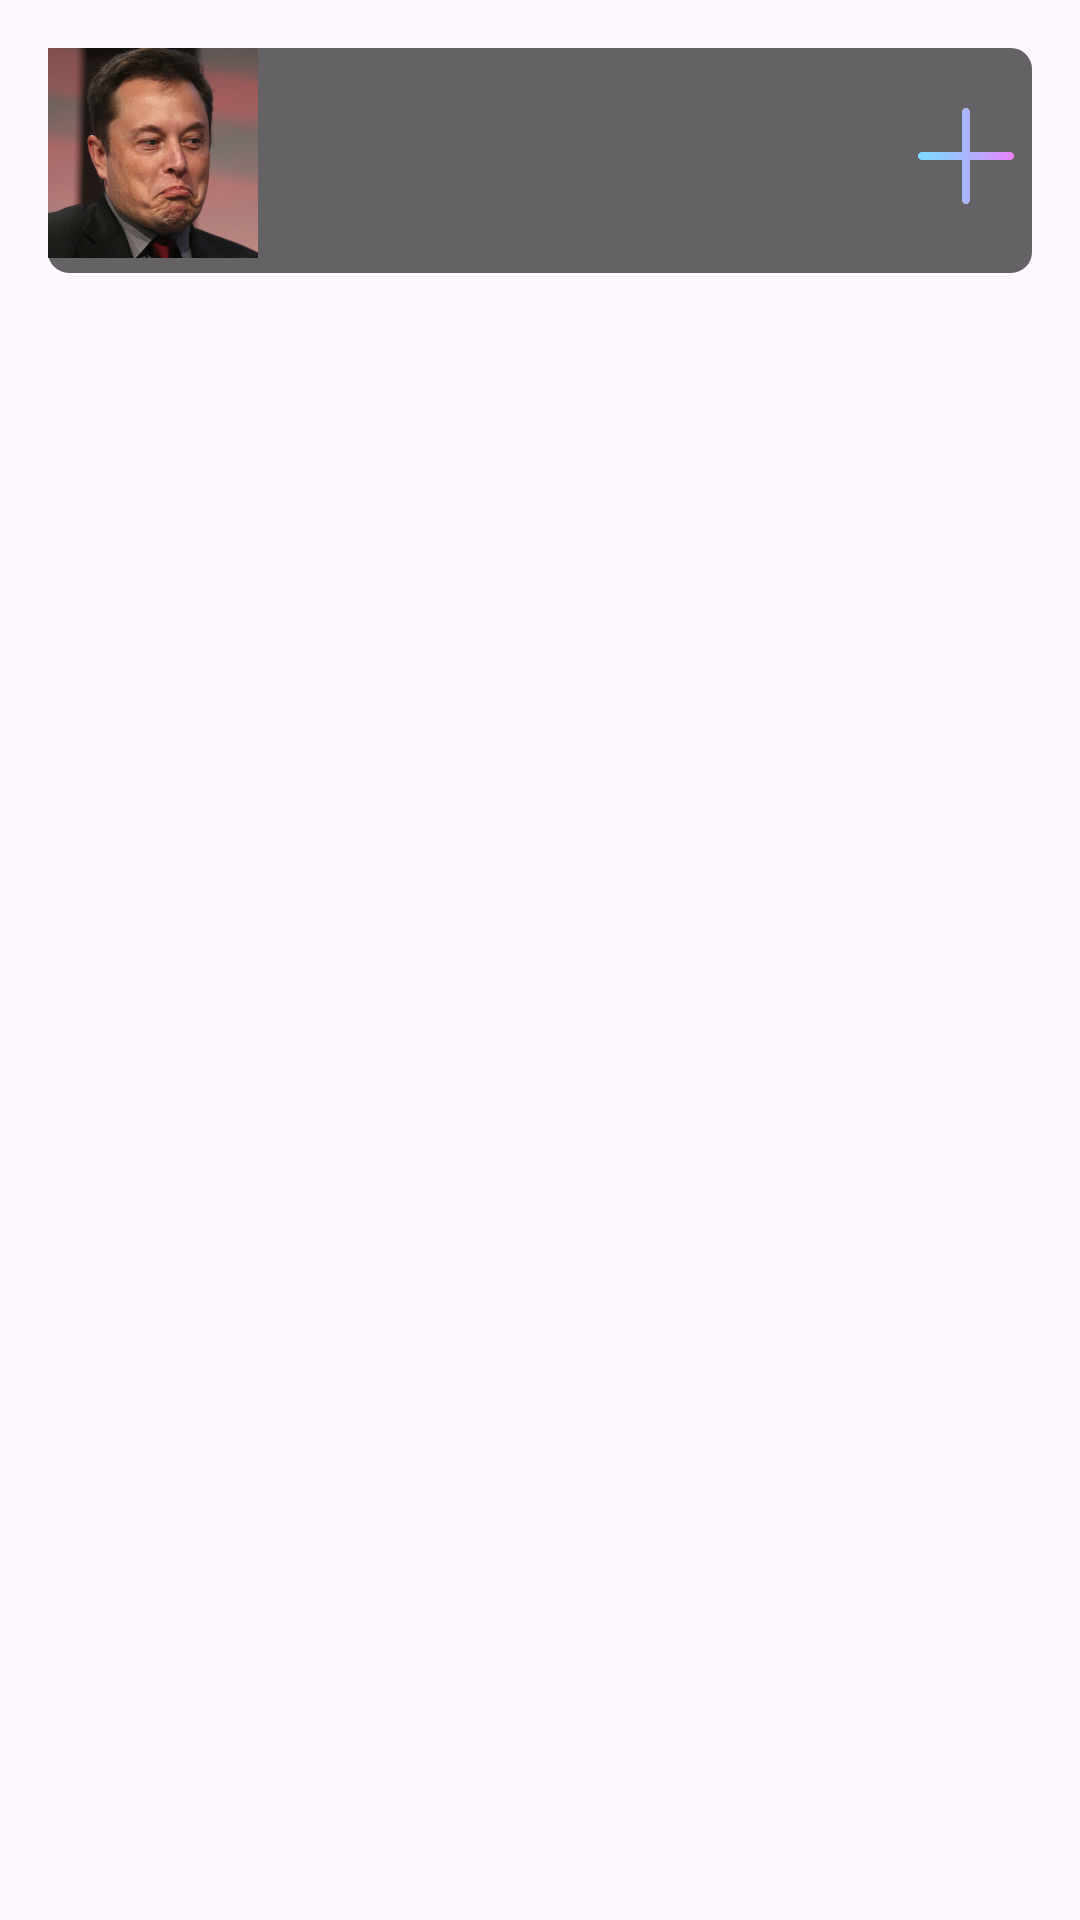

Named icons in this screenshot (1080 × 1920) and their centers, [x,y]:
user profile: [153,153]
